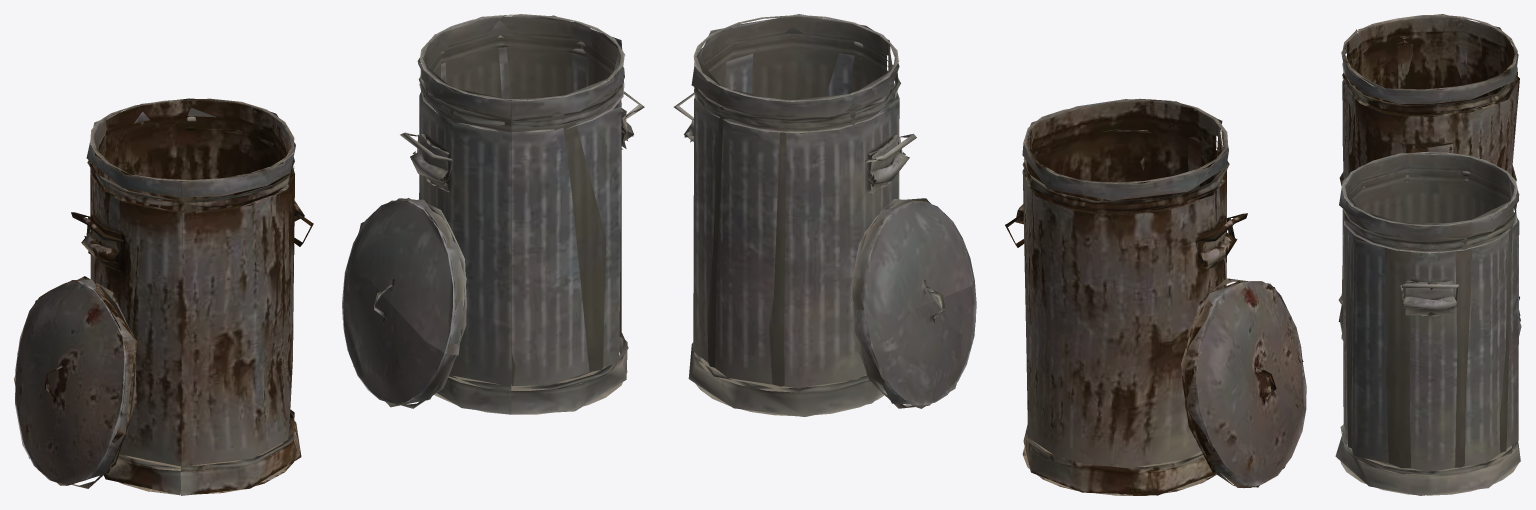
Rendered from trash.glb.
The picture shows the model from 3 angles, left to right: view 1: azimuth 30°, elevation 25°; view 2: azimuth 150°, elevation 25°; view 3: azimuth 270°, elevation 25°; orthographic projection. The views are drawn at different scales.
Visible parts, largest first — view 1: metal_trash_can_handle_left; view 2: metal_trash_can_handle_left; view 3: metal_trash_can_handle_left.
Boxes of the visible parts, left/top/right/bottom form: metal_trash_can_handle_left: left=14, top=14, right=644, bottom=495; metal_trash_can_handle_left: left=673, top=14, right=1306, bottom=495; metal_trash_can_handle_left: left=1335, top=14, right=1521, bottom=495.
Size of the model in its own units: 1.77 by 0.9064 by 0.5692.
3 materials, 3 textured.
